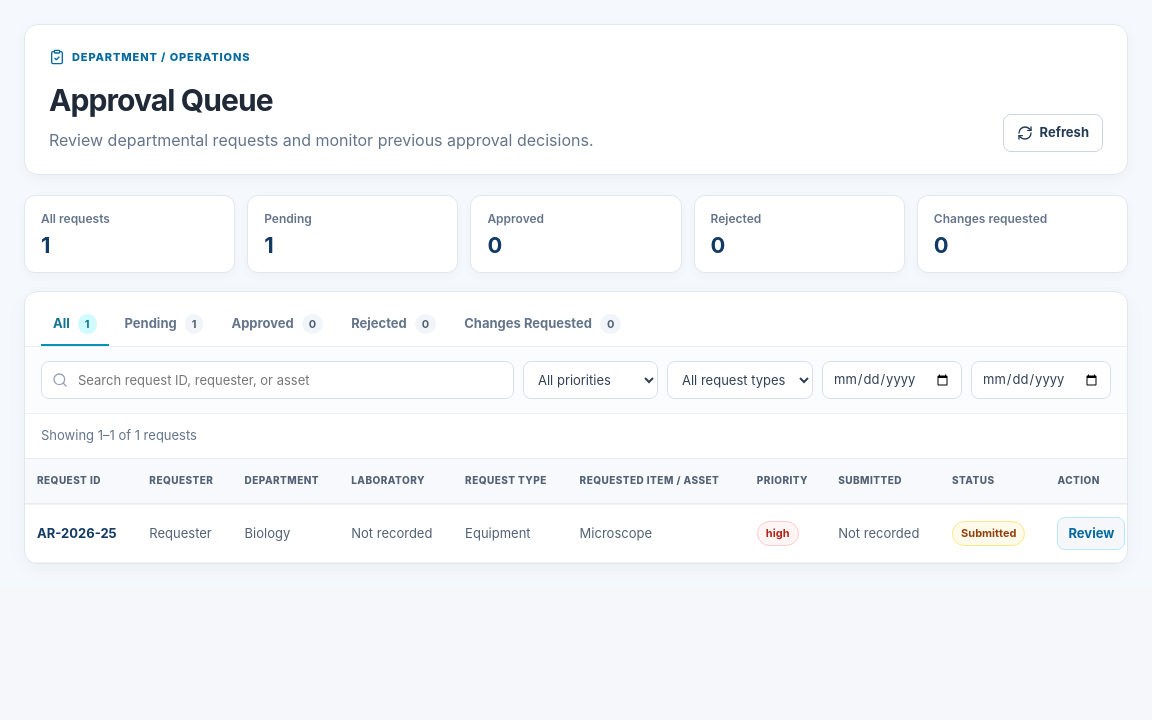
Scenario: shows only actions allowed by the authenticated permission set
Expected: the text "Microscope" is shown, [568,504,745,562]
Click the button "Review" at [1091, 533], box [1058,516,1125,550]
(page scrolled)
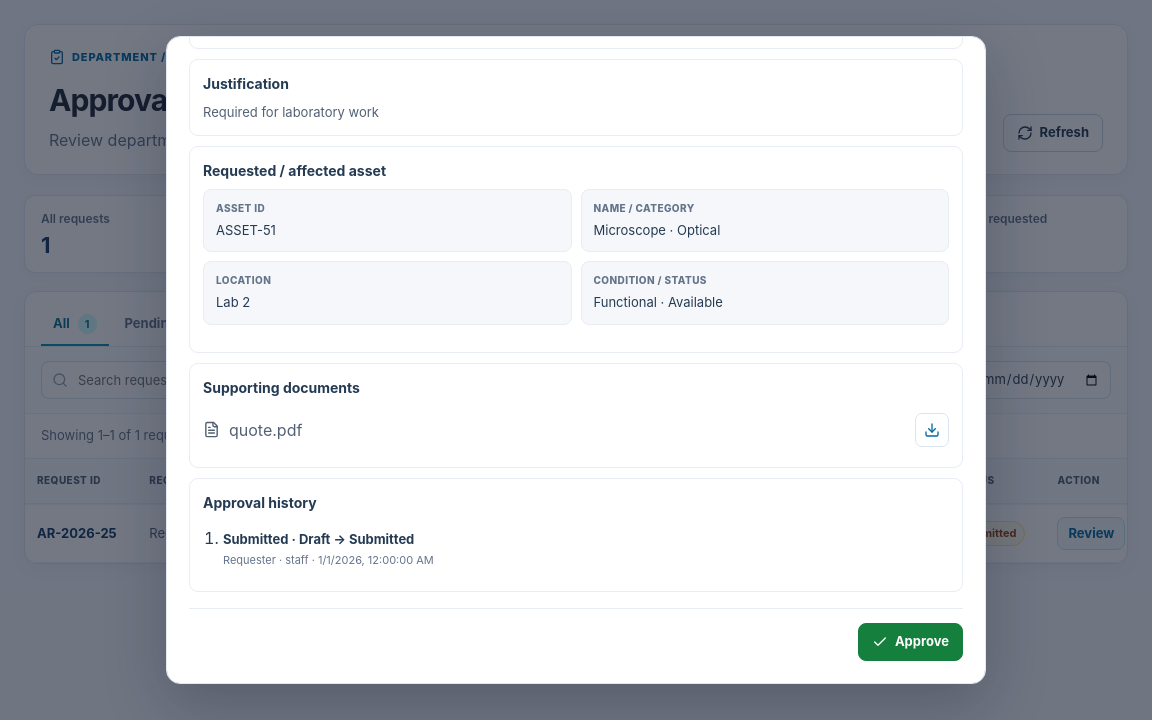
Expected: the text "Required for laboratory work" is shown, [203,104,379,120]
Expected: the button "Approve" is shown, [858,623,963,661]
